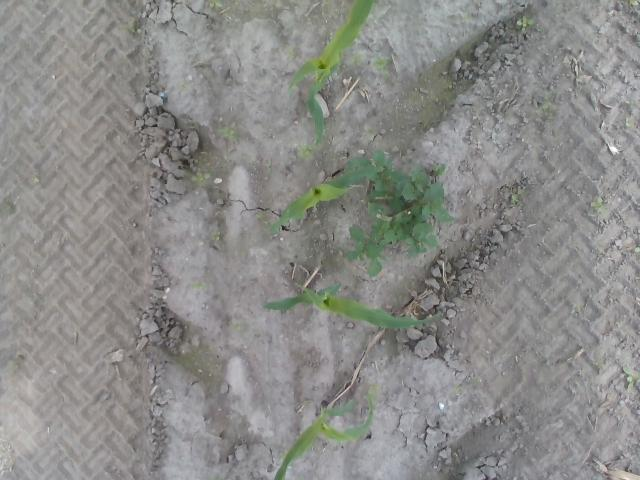Maize: (286, 1, 373, 146), (258, 280, 442, 332), (272, 388, 375, 480), (266, 170, 370, 237)
Weeds: (343, 147, 453, 276), (623, 366, 640, 391), (375, 54, 392, 78), (126, 16, 143, 35), (294, 144, 313, 160), (591, 198, 608, 214), (516, 16, 536, 29), (218, 126, 238, 138), (540, 95, 552, 112), (191, 173, 209, 182), (208, 0, 225, 9), (190, 350, 202, 362), (193, 279, 206, 289), (210, 230, 220, 241), (625, 118, 633, 128), (31, 176, 40, 184), (512, 194, 518, 205), (629, 0, 640, 6), (634, 246, 640, 255)
